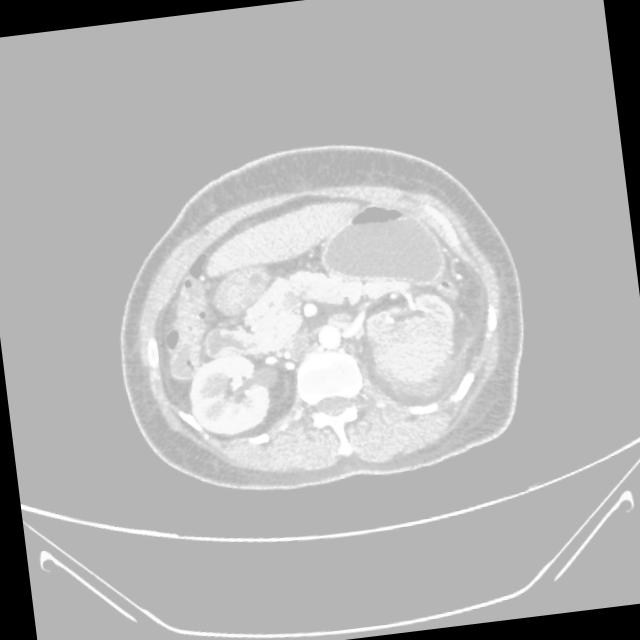TUMOR: (127, 161, 485, 406)
